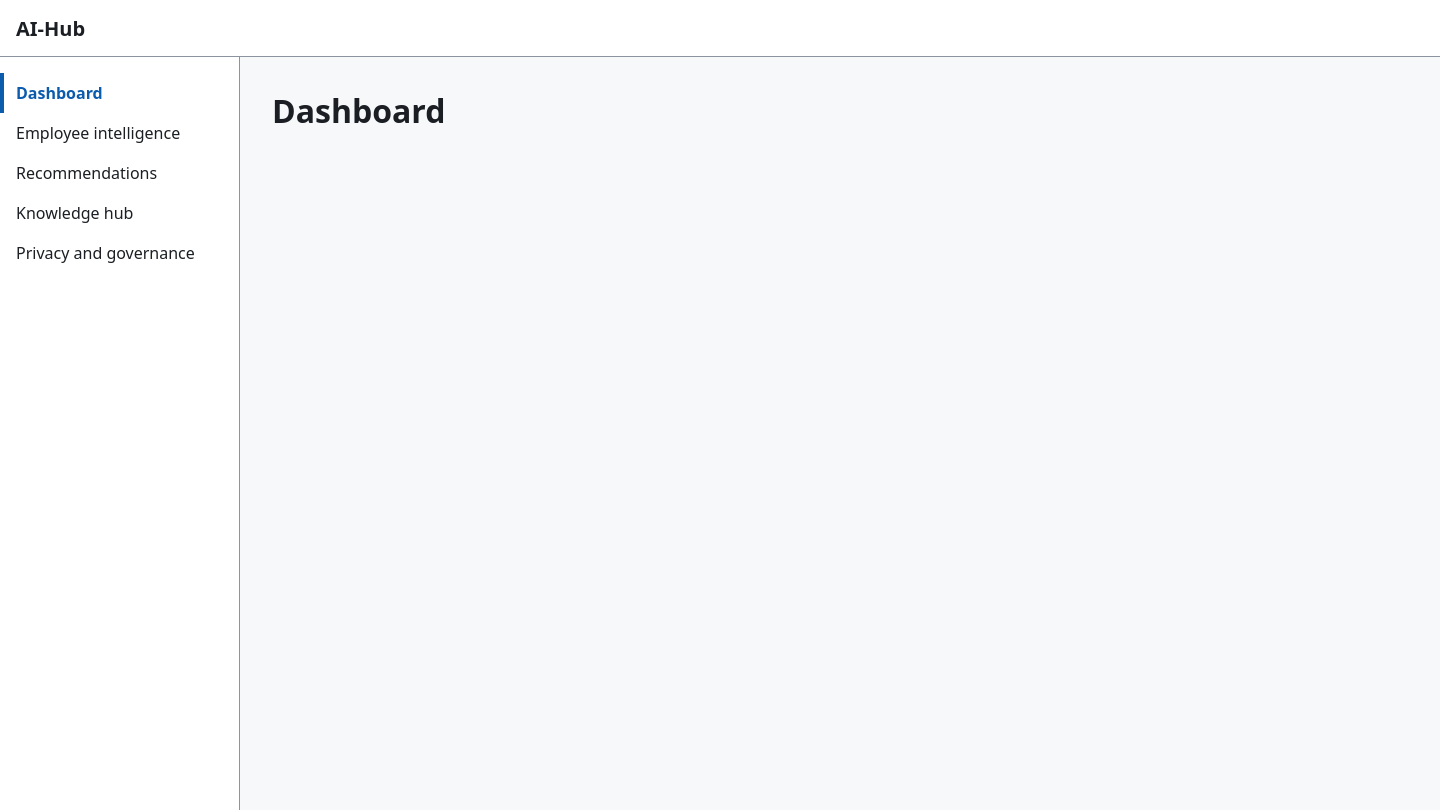
Test: moves to Recommendations in the page when its link is activated [AC R-009.AC-3]
Click the link "Recommendations".
click(87, 173)  # box [16,162,157,184]
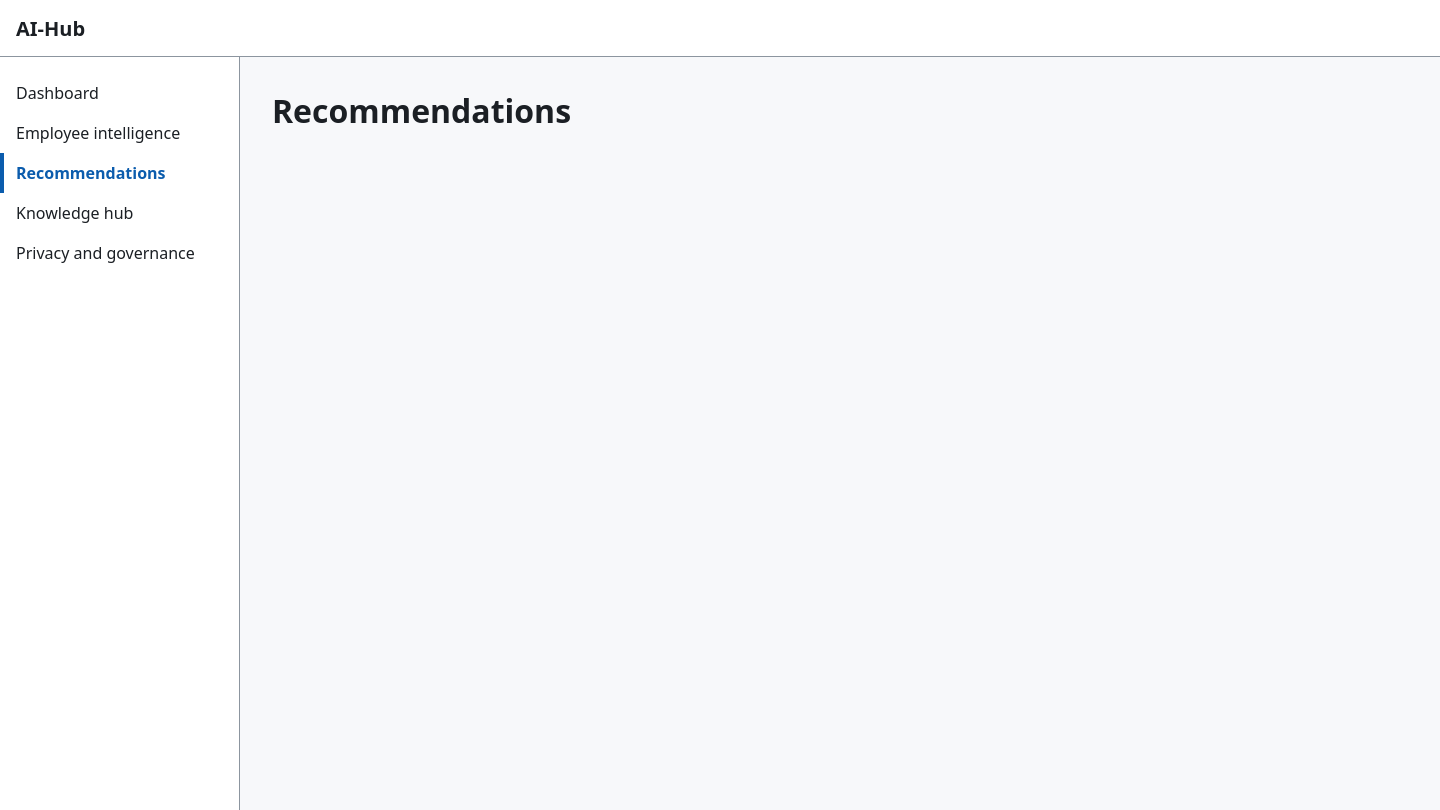
Expected: the heading "Recommendations" is shown, [272,89,571,132]
